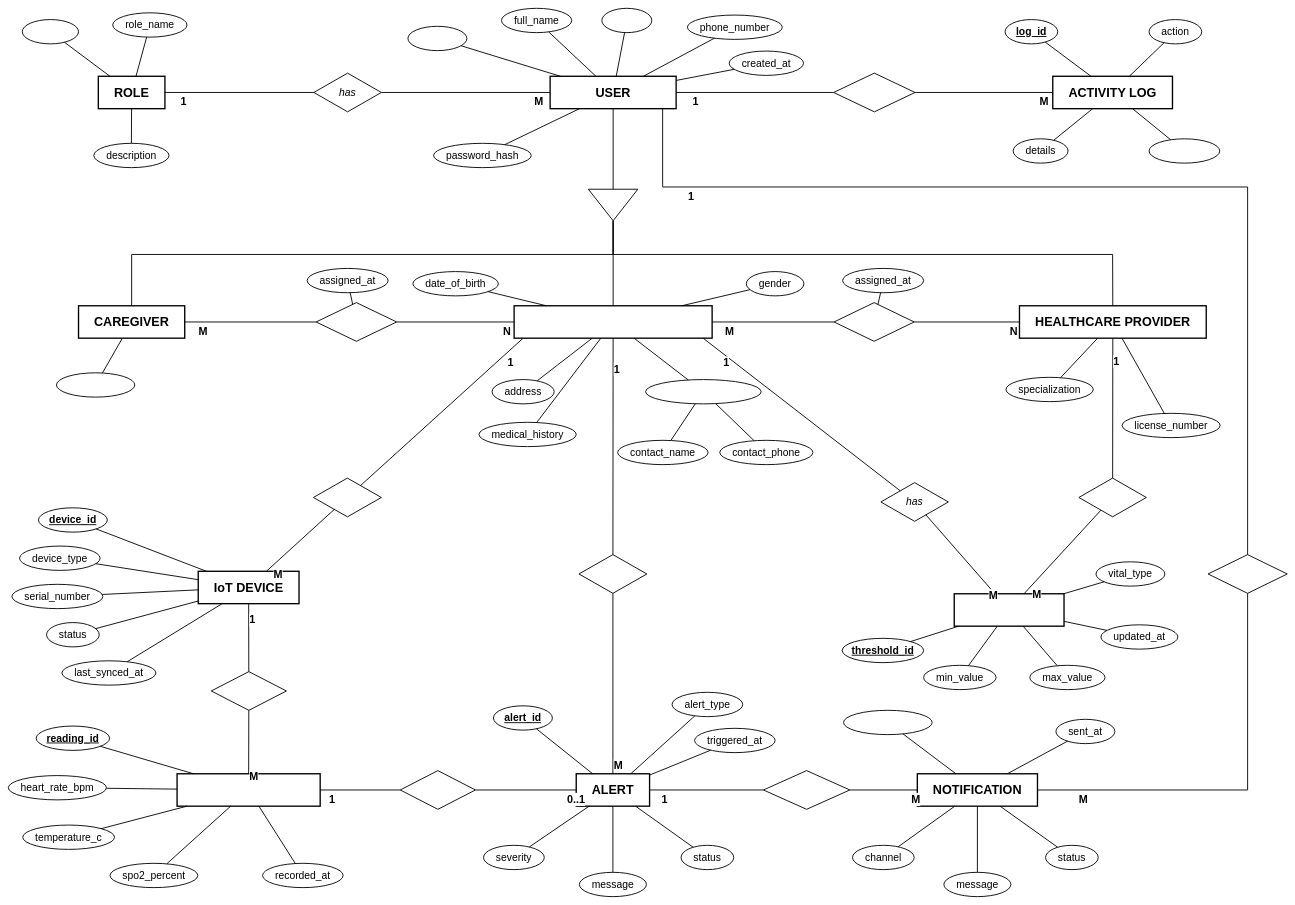
The diagram is 1295 pixels wide and 905 high, and some of its shapes have lost their labels. Here are the shapes that lost their labels. From the top down, the box of each, then its label:
(22, 19, 79, 44): role_id
(407, 26, 467, 51): user_id
(601, 8, 652, 33): email
(833, 72, 915, 112): performs
(1148, 138, 1220, 163): logged_at
(588, 189, 638, 221): ISA
(315, 302, 397, 342): cares for
(513, 305, 713, 339): ELDERLY PERSON
(833, 302, 914, 342): monitors
(56, 372, 135, 397): relationship
(645, 379, 761, 404): emergency_contact
(313, 477, 382, 517): wears
(1078, 477, 1147, 517): sets
(578, 554, 647, 594): raises
(1207, 554, 1287, 594): receives
(953, 593, 1064, 627): THRESHOLD
(211, 671, 287, 711): records
(843, 710, 932, 735): notification_id
(176, 773, 321, 807): HEALTH READING
(400, 770, 476, 810): triggers
(763, 770, 850, 810): generates
